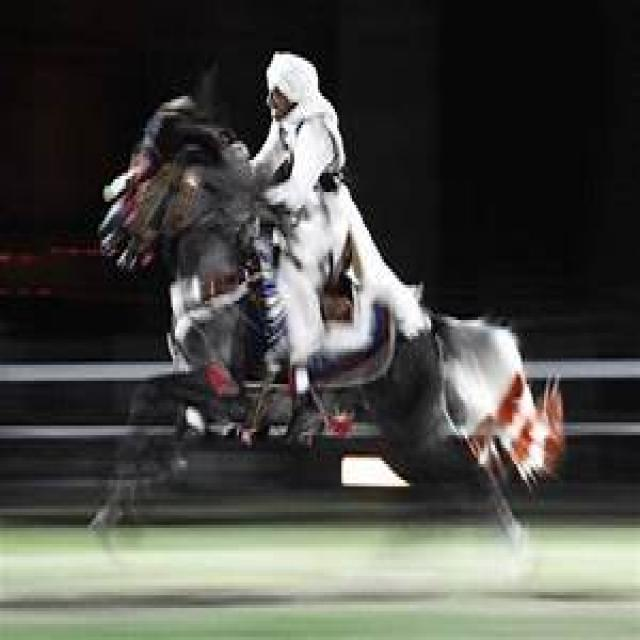horse: (100, 98, 564, 518)
